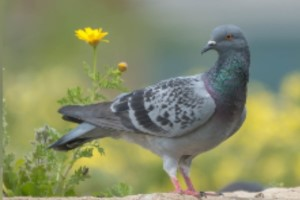pigeon: (48, 22, 253, 199)
